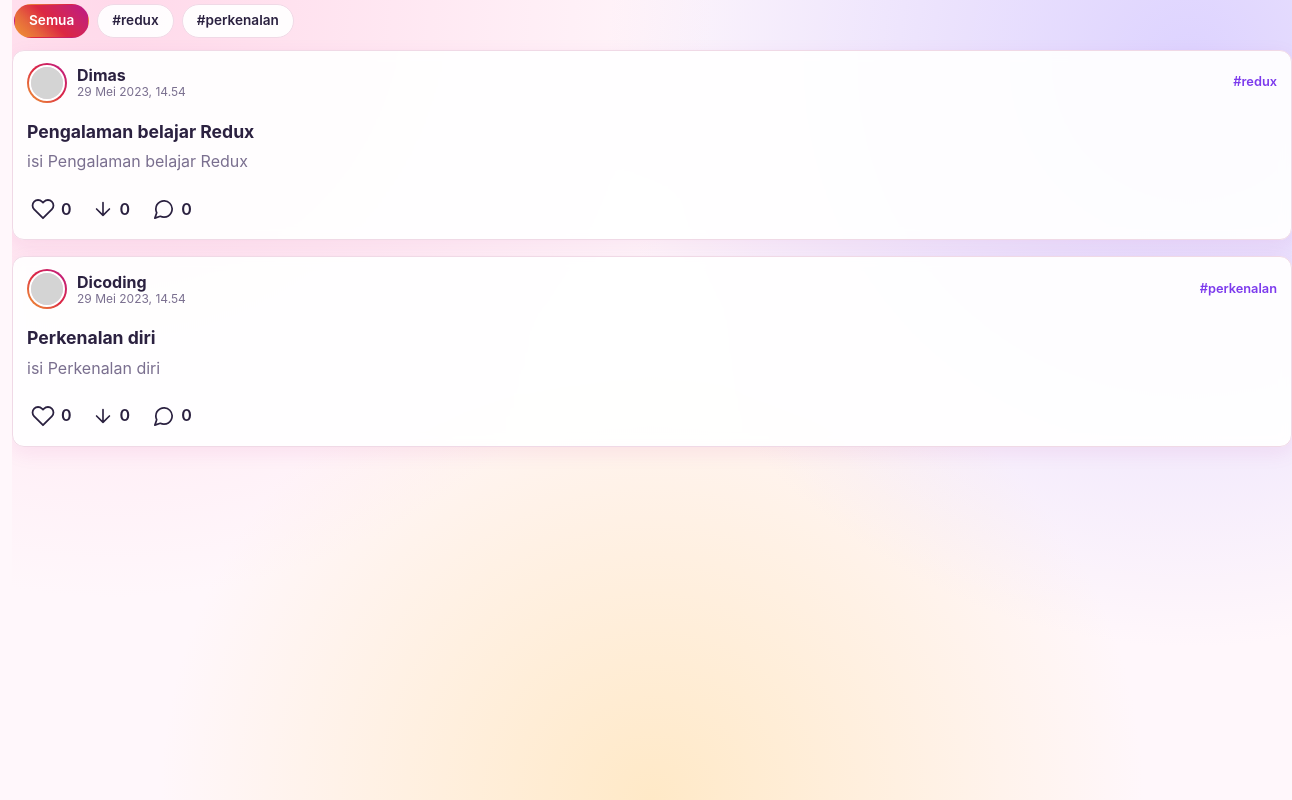
Test: HomePage (integrasi) › memfilter thread berdasarkan kategori lalu menampilkannya kembali lewat Semua
Expected: the link "Pengalaman belajar Redux" is shown, [27,121,254,142]
Click the button "#redux" at (136, 21), box [97,4,174,38]
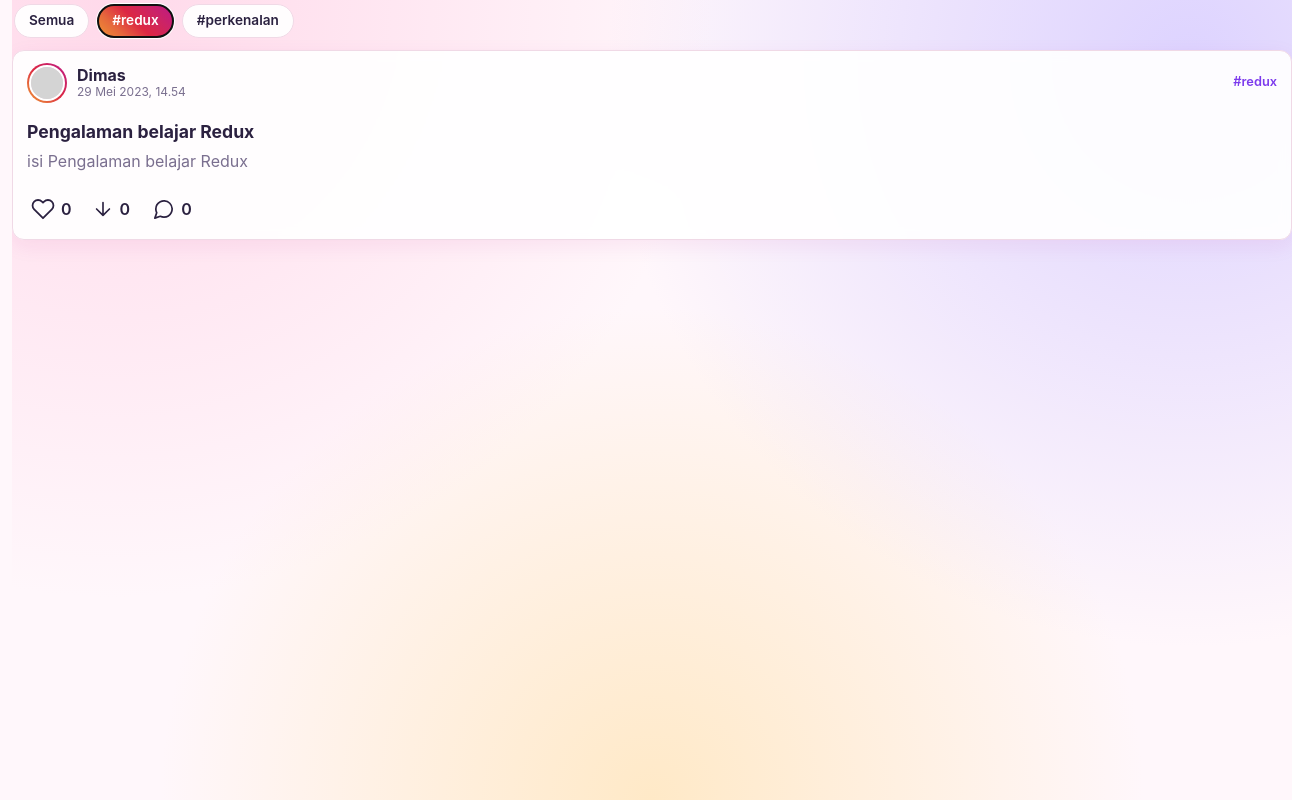
Expected: the link "Pengalaman belajar Redux" is shown, [27,121,254,142]
Expected: the link "Perkenalan diri" is gone
Click the button "Semua" at (52, 21), box [14,4,89,38]
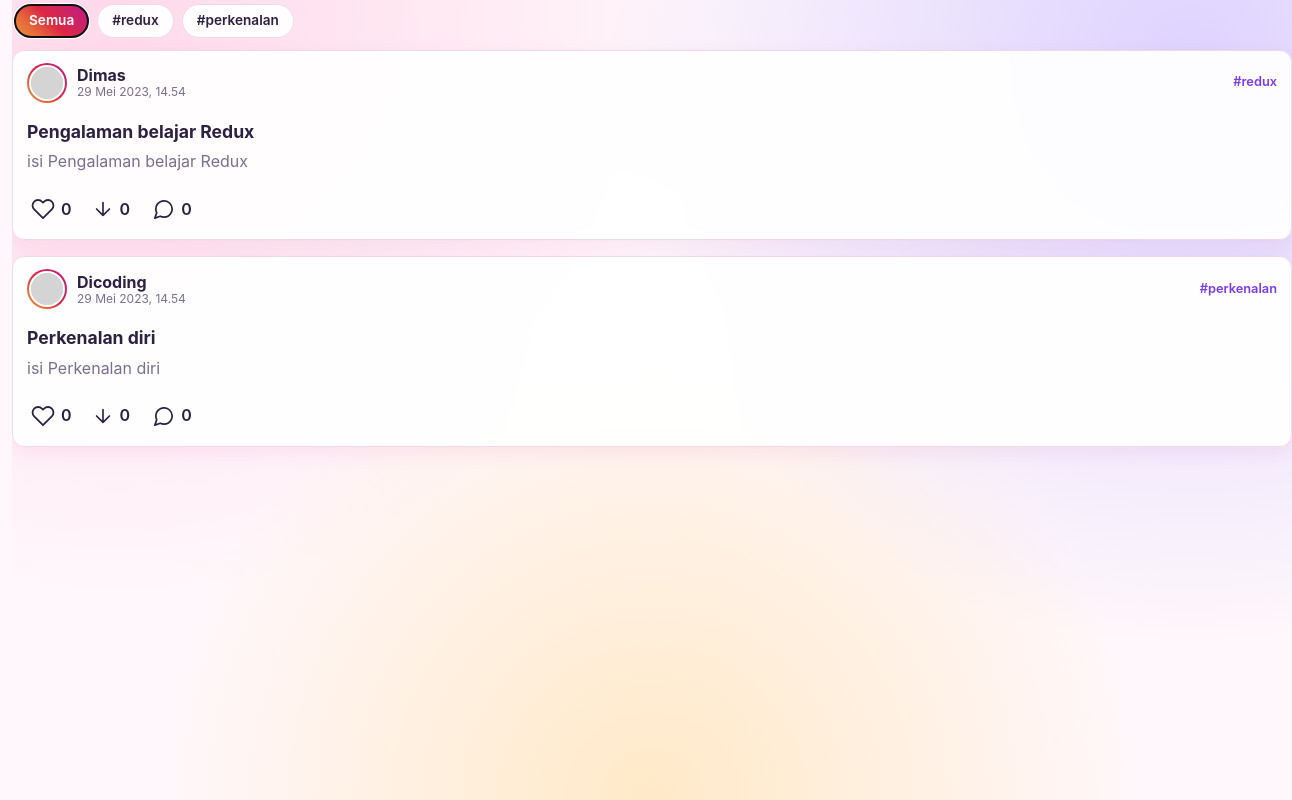
Expected: the link "Perkenalan diri" is shown, [27,327,156,348]
